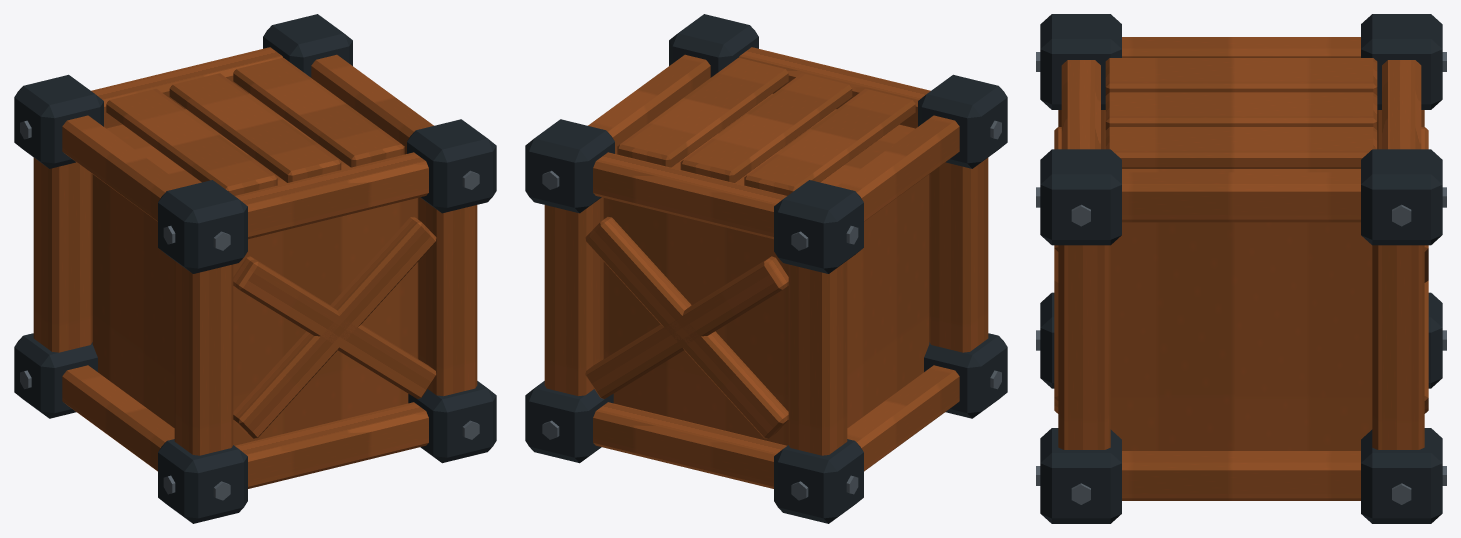
3 renders of one model, left to right at view 1: azimuth 30°, elevation 25°; view 2: azimuth 150°, elevation 25°; view 3: azimuth 270°, elevation 25°, orthographic. The views are drawn at different scales.
Visible parts, largest first — view 1: camp-crate-replay; view 2: camp-crate-replay; view 3: camp-crate-replay.
Boxes of the visible parts, x1,y1,x2,y2 form: camp-crate-replay: (14, 14, 496, 523); camp-crate-replay: (525, 14, 1007, 523); camp-crate-replay: (1036, 14, 1446, 523).
Size of the model in its own units: 1.17 by 1.1 by 1.17.
1 material, 1 textured.
